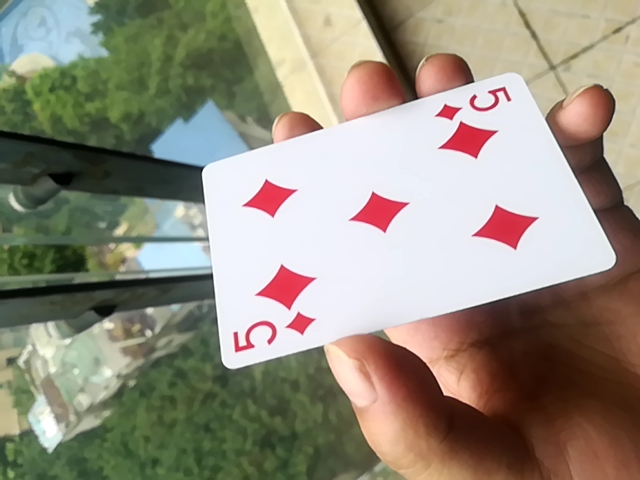fk 5: (195, 68, 622, 380)
